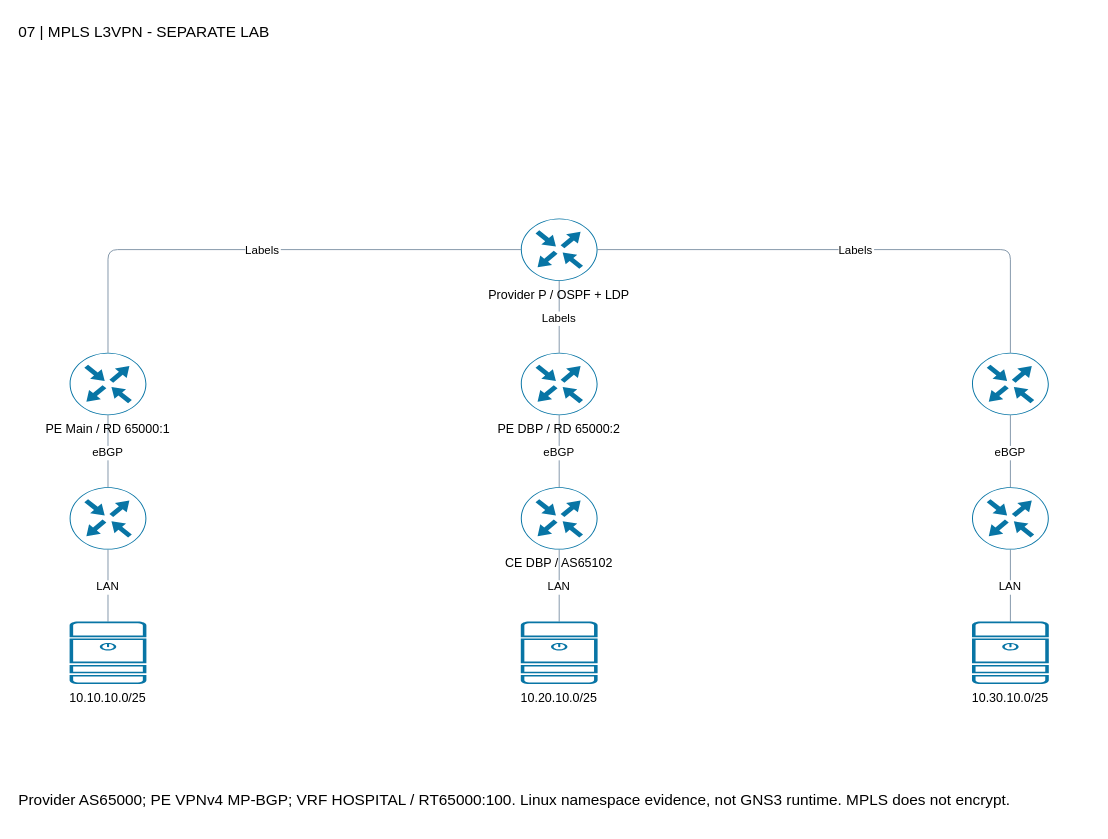
The diagram is 1108 pixels wide and 839 high, and some of its shapes have lost their labels. Each missing label, with the centre of its shape:
CE BHTQ / AS65103: point 1010,518
CE Main / AS65101: point 107,518
PE BHTQ / RD 65000:3: point 1010,383
